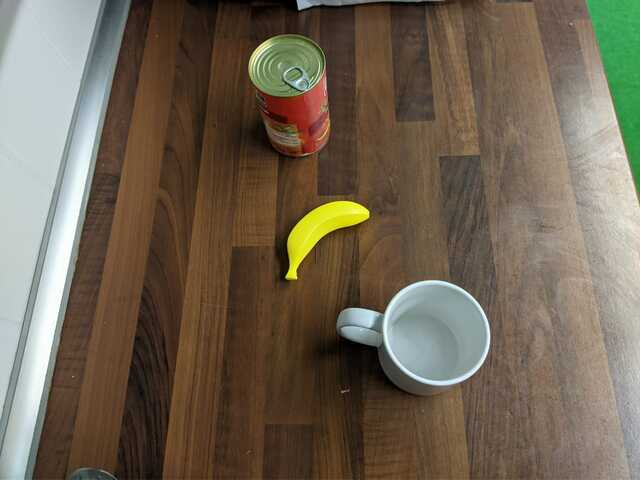005_tomato_soup_can: (246, 32, 332, 158)
011_banana: (284, 199, 370, 282)
025_mug: (335, 279, 490, 395)
